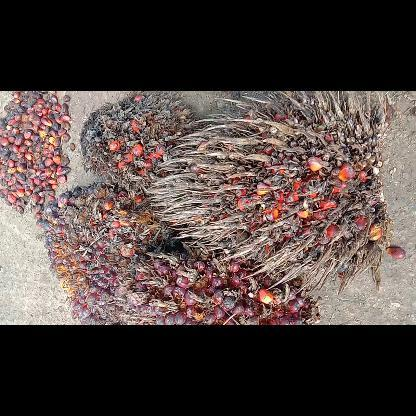TBS masak: (40, 181, 176, 324), (127, 249, 316, 324)
Terlalu masak: (146, 91, 390, 295), (80, 93, 196, 193)
